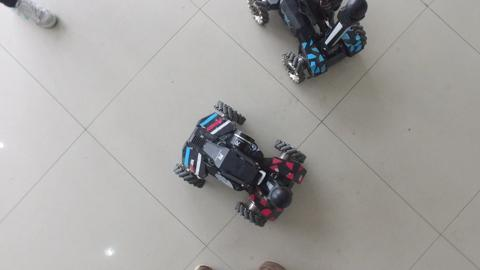chariot: (174, 99, 317, 230), (248, 1, 375, 88)
